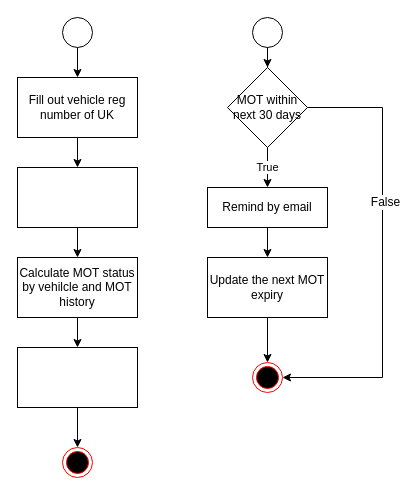
Image size: 417x495. Some labels were removed from this diagram. Here are the shapes that lost their labels. From the top down, the centre of each, then its label:
At (77,197): "Request 3rd party API to get vehicle details".
At (77,377): "Log manufacturer, model, MOT expiry".
